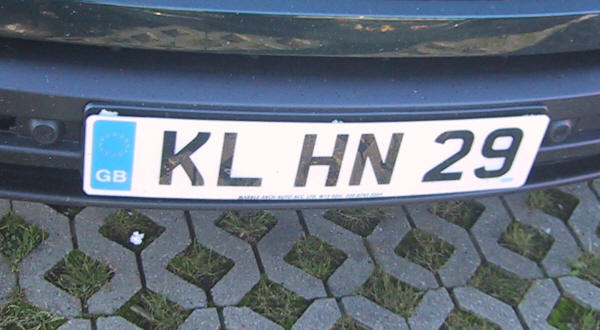license_plate: (82, 112, 551, 199)
